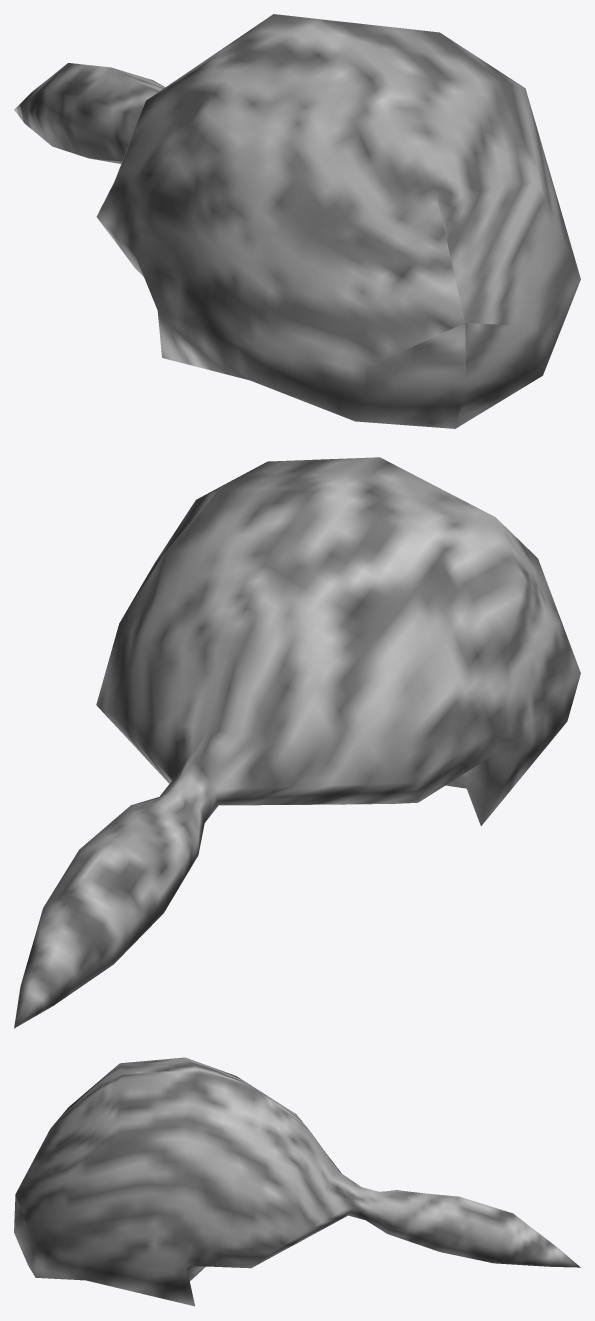
The model's file is Wig_F_Hair_PonyTail.fbx.
The picture shows the model from 3 angles, top to bottom: view 1: azimuth 30°, elevation 25°; view 2: azimuth 150°, elevation 25°; view 3: azimuth 270°, elevation 25°; orthographic projection. The views are drawn at different scales.
Visible parts, largest first — view 1: BoxOfJars003; view 2: BoxOfJars003; view 3: BoxOfJars003.
Part boxes in pixels (x1,y1,x2,y2): BoxOfJars003: (14,14,580,428); BoxOfJars003: (14,457,580,1028); BoxOfJars003: (14,1057,580,1306).
Size of the model in its own units: 10.74 by 8.65 by 22.67.
